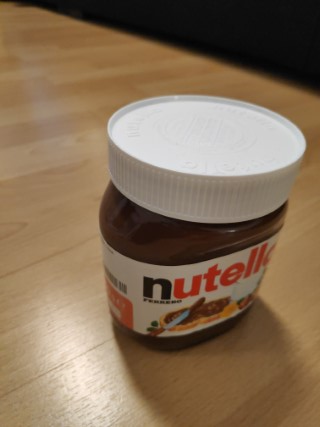nutella: (96, 93, 308, 355)
